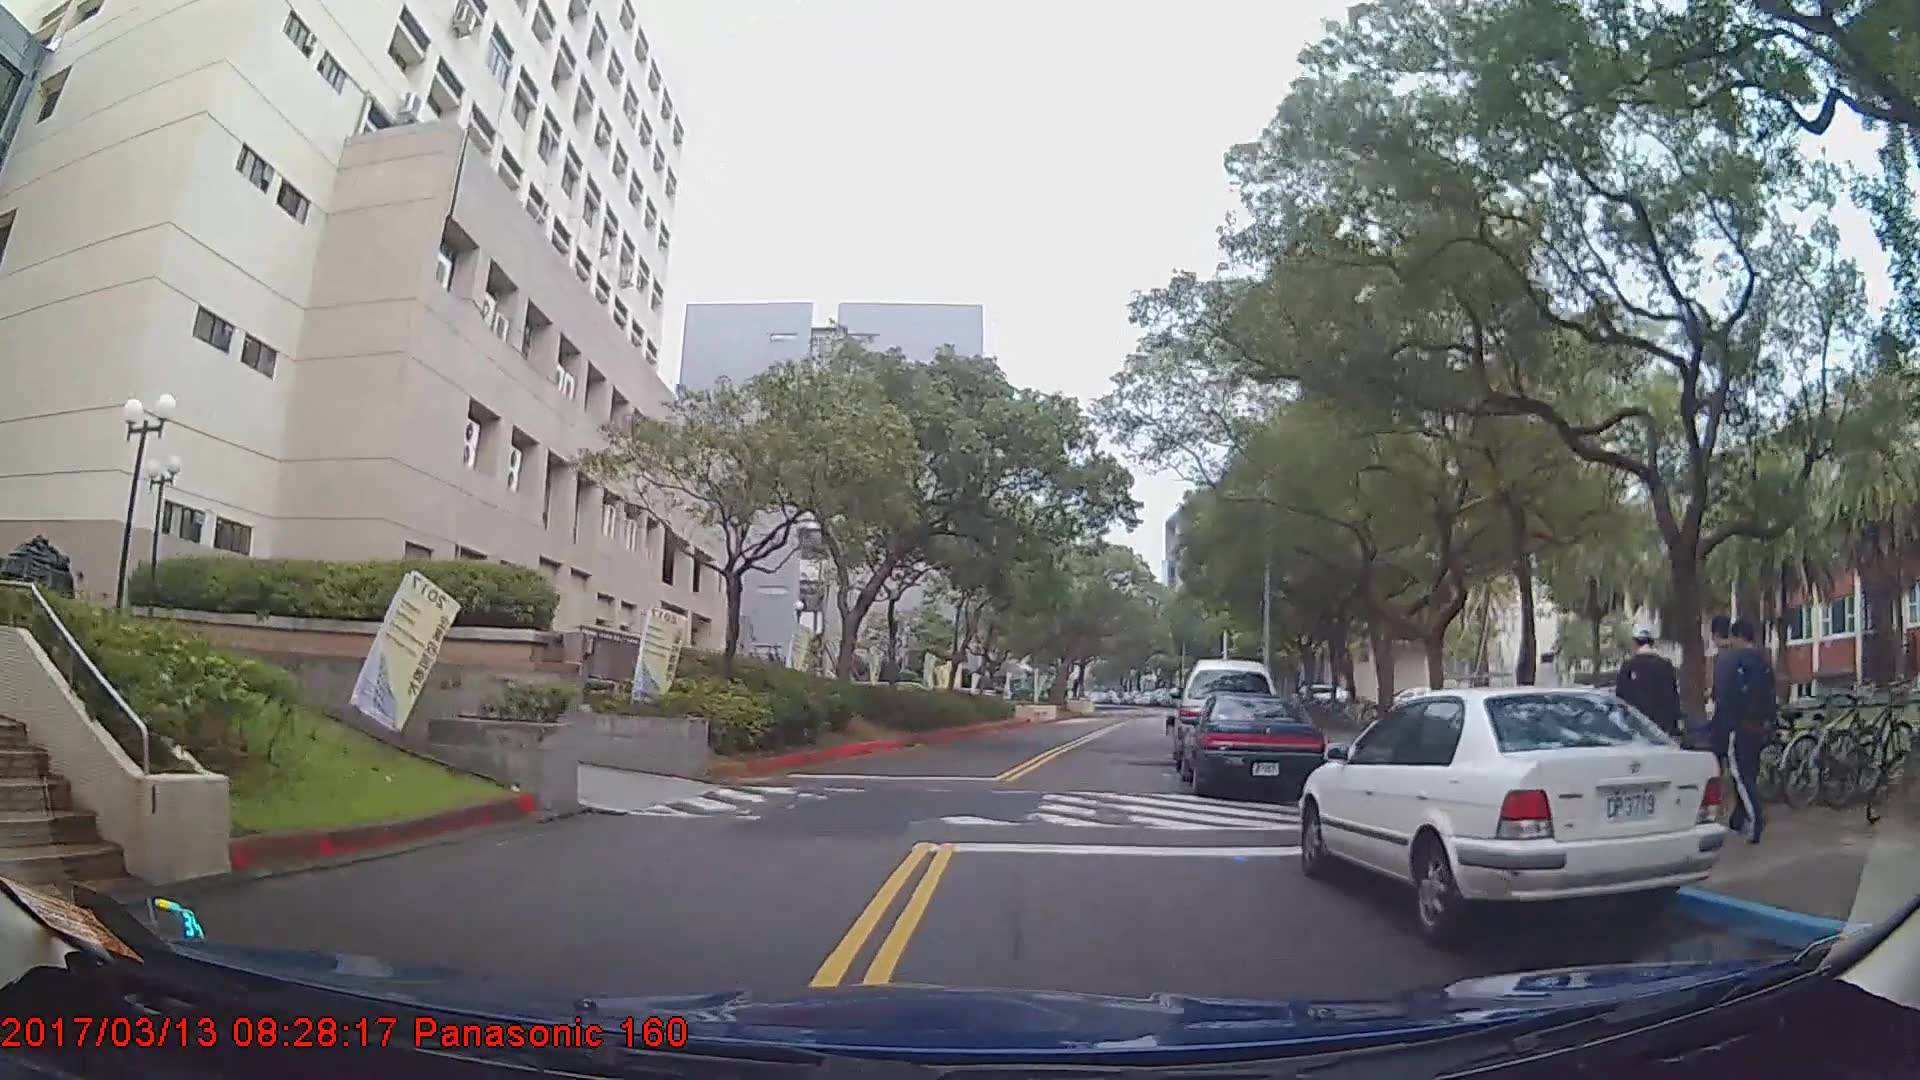pedestrian: (1705, 620, 1773, 833), (1622, 616, 1684, 824)
vehicle: (1298, 684, 1730, 944), (1179, 691, 1328, 798)
